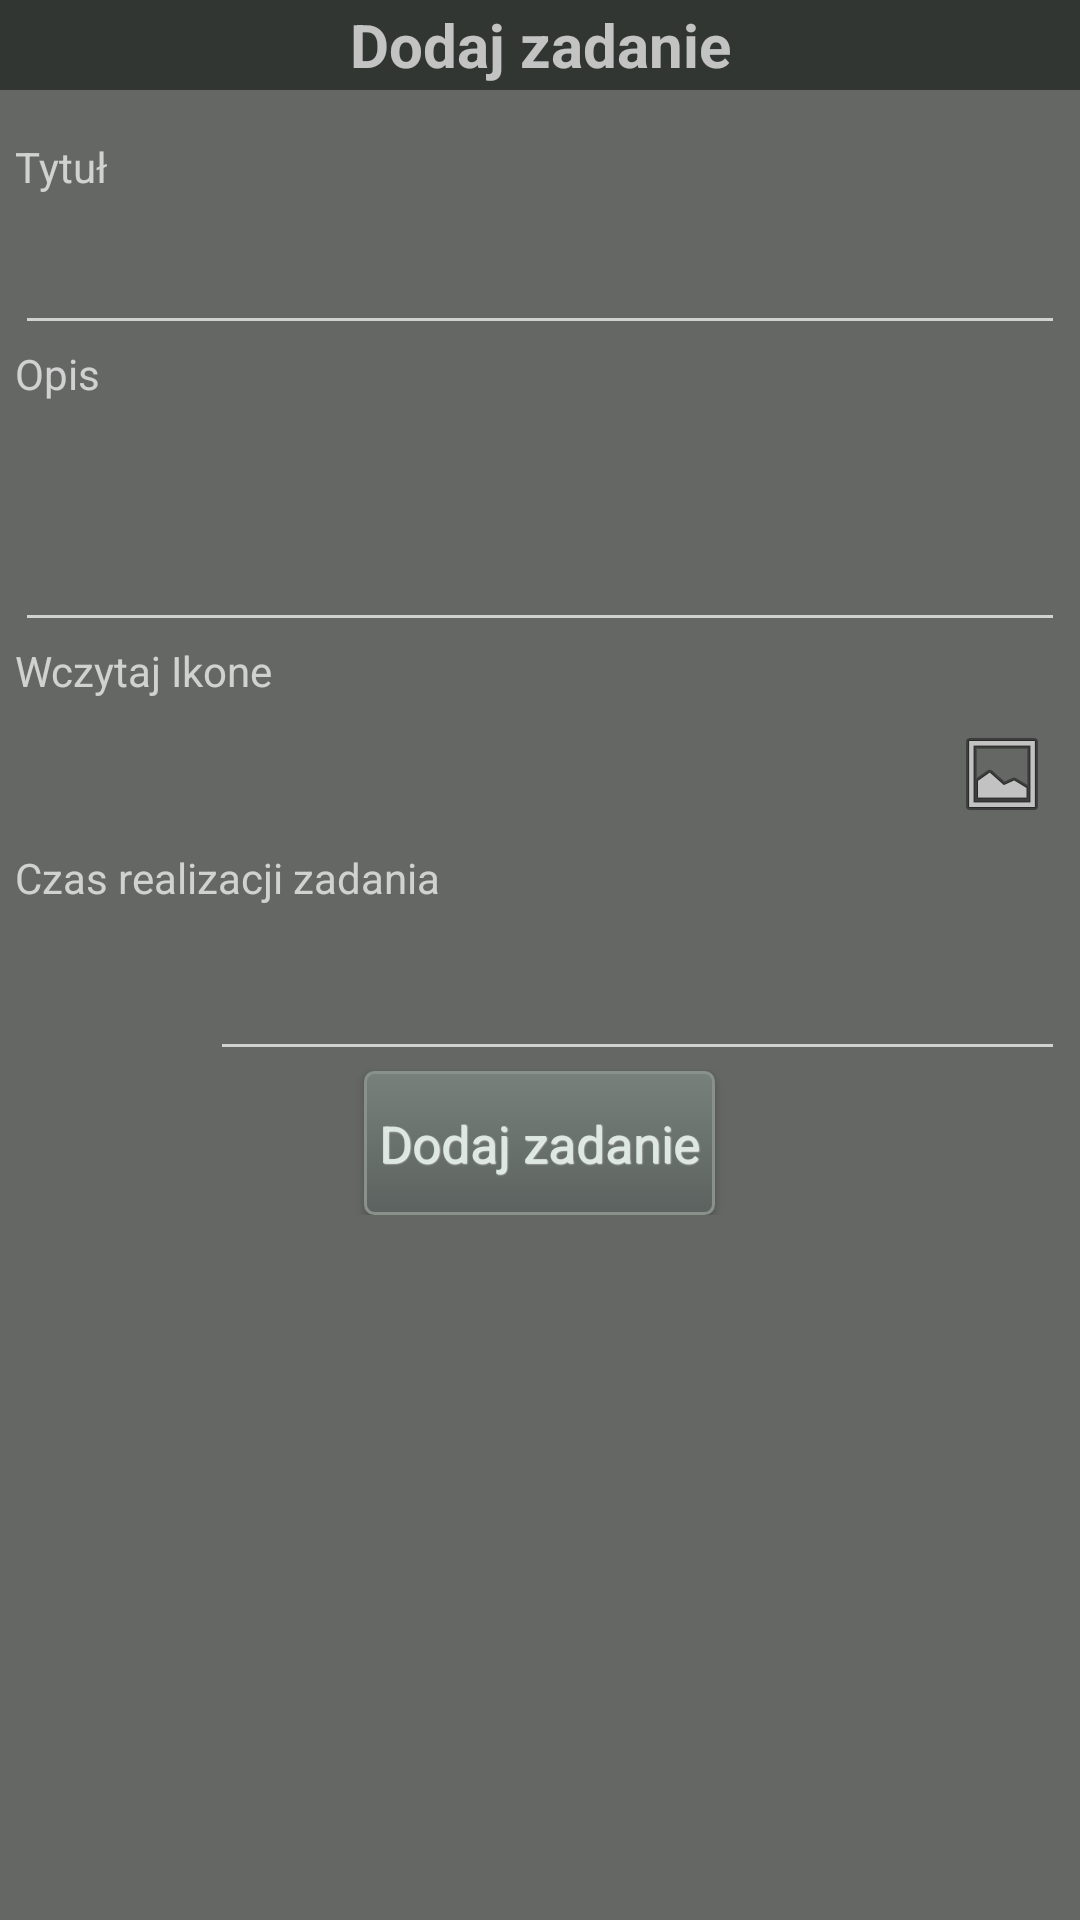

Locate icon controls on the screen. Image size 1080*1920, boxes as (x1, y1, x2, y2).
gallery: (966, 738, 1038, 810)
